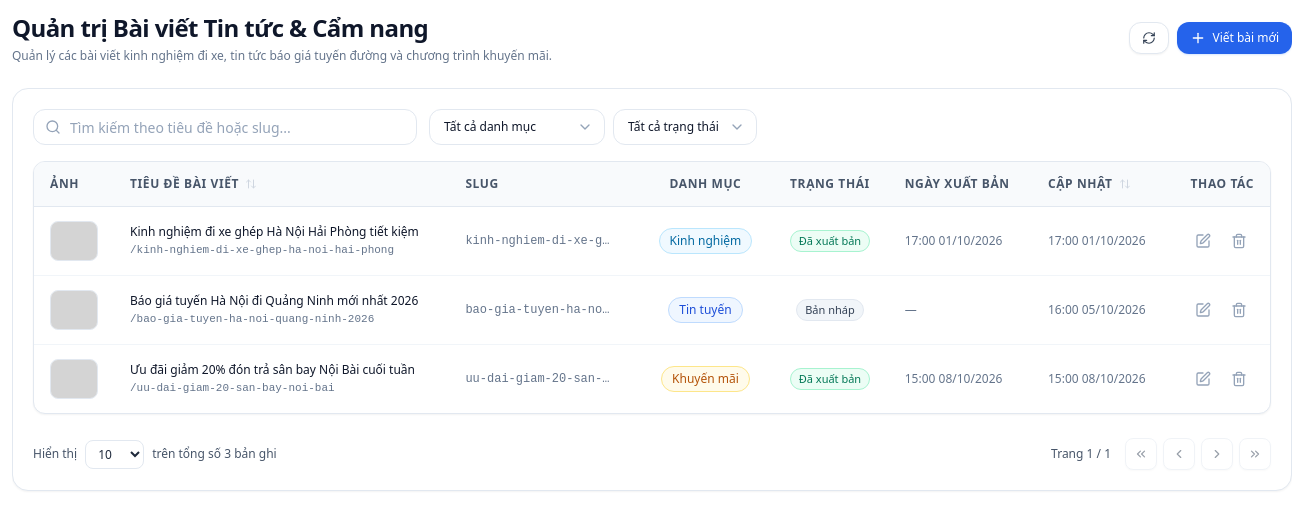
Scenario: Articles Module (Task T112) › ArticleList Component › lọc bài viết theo trạng thái (status: draft / published)
Expected: the link "Báo giá tuyến Hà Nội đi Quảng Ninh mới nhất 2026" is shown, [130,293,433,309]
# Chọn "Bản nháp"
Select "Bản nháp" in the dropdown with test id "filter-status-select" at (685, 127), box [613,109,757,145]
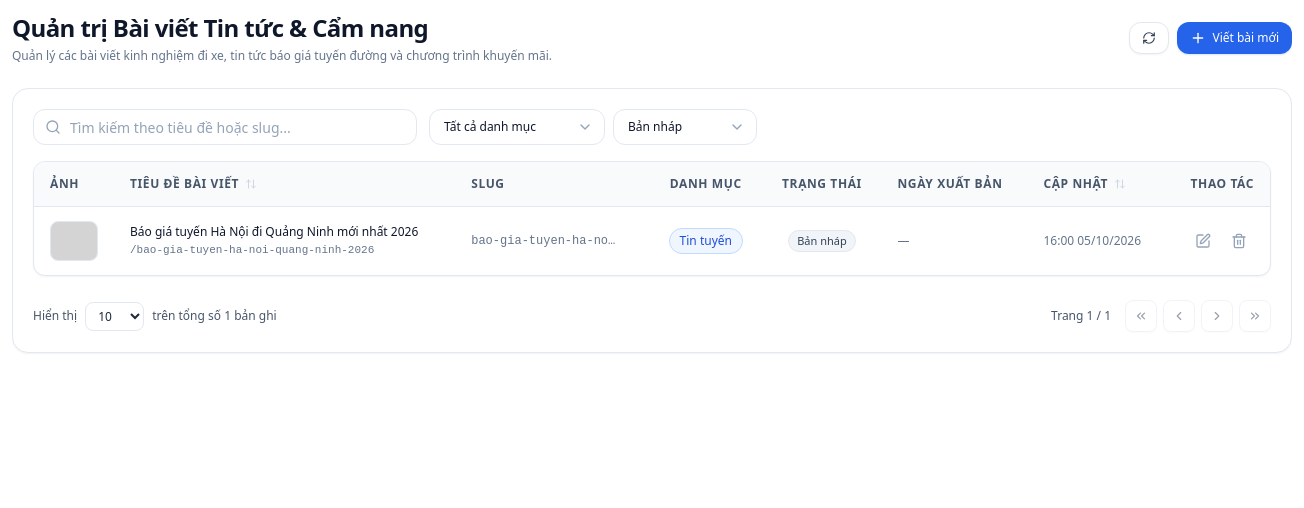
Expected: the link "Báo giá tuyến Hà Nội đi Quảng Ninh mới nhất 2026" is shown, [130,224,439,240]
Now the link "Kinh nghiệm đi xe ghép Hà Nội Hải Phòng tiết kiệm" is gone
